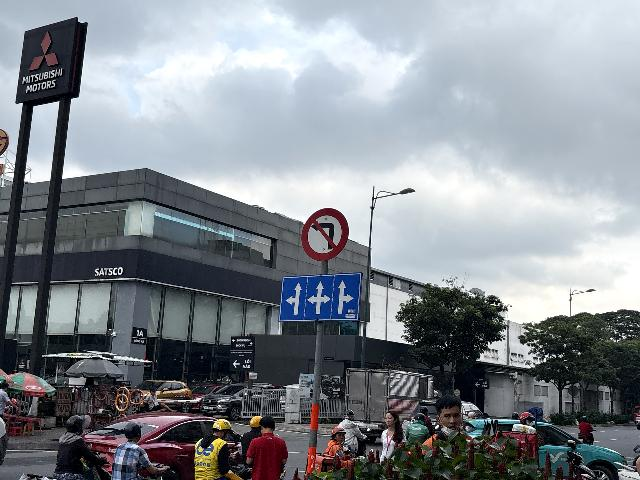cam-re-trai: (302, 207, 349, 261)
